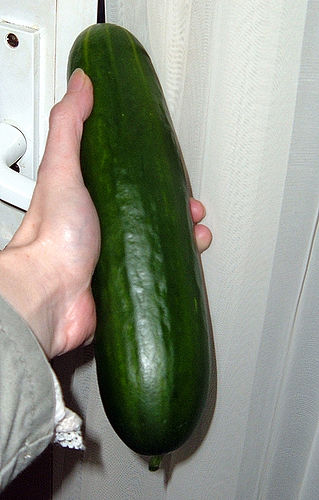cucumber: (65, 22, 208, 471)
